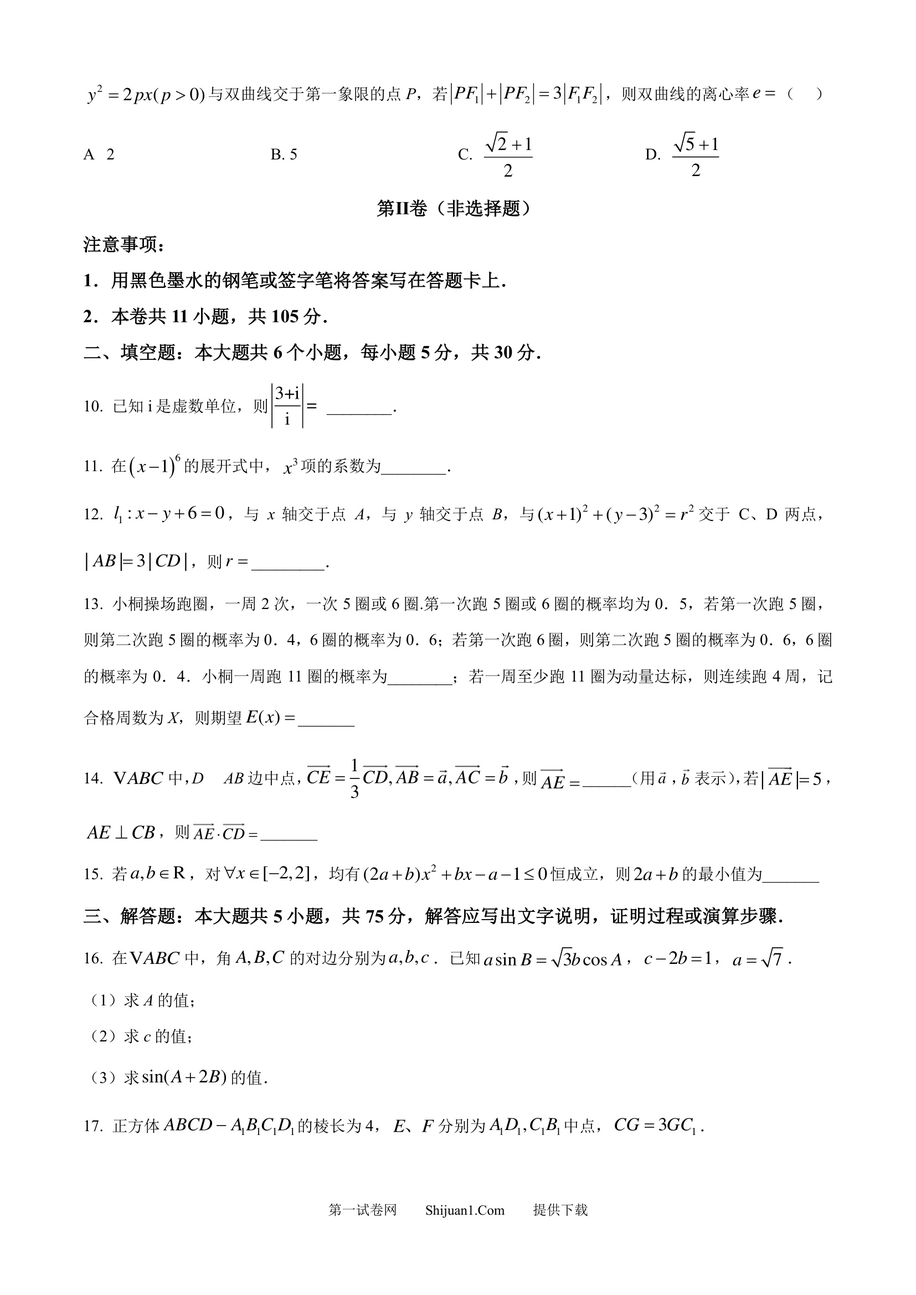question: (78, 584, 858, 745), (68, 923, 824, 1089), (61, 54, 846, 184), (80, 740, 831, 844), (75, 492, 838, 584), (70, 1089, 747, 1164), (75, 849, 848, 899), (75, 434, 501, 492), (78, 374, 439, 432)
